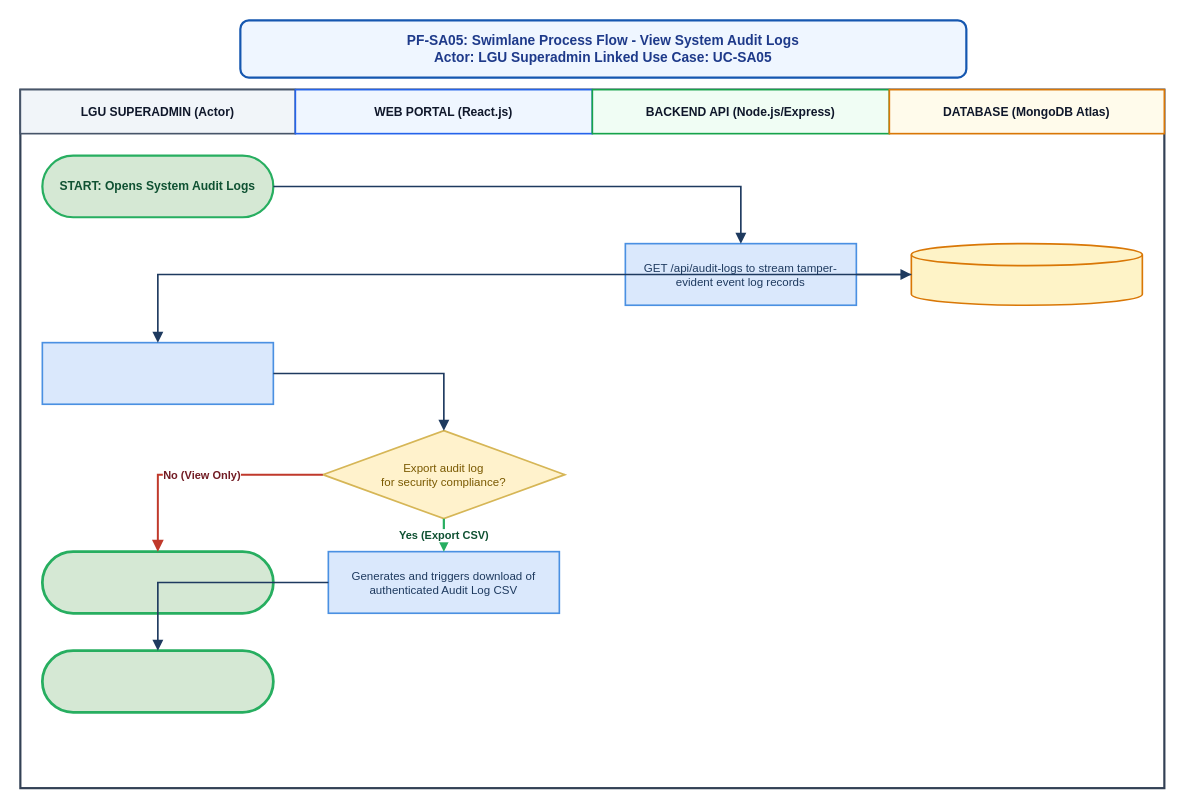
The diagram is 1184 pixels wide and 807 high, and some of its shapes have lost their labels. Each missing label, with the box of its shape:
Applies security filters by actor, event type, or date range: (41, 341, 274, 405)
END: Audit Log CSV exported for filing: (40, 649, 274, 713)
END: Security audit verified on screen: (40, 550, 274, 614)
MongoDB: Queries AuditLog collection sorted by timestamp desc: (910, 242, 1143, 306)
